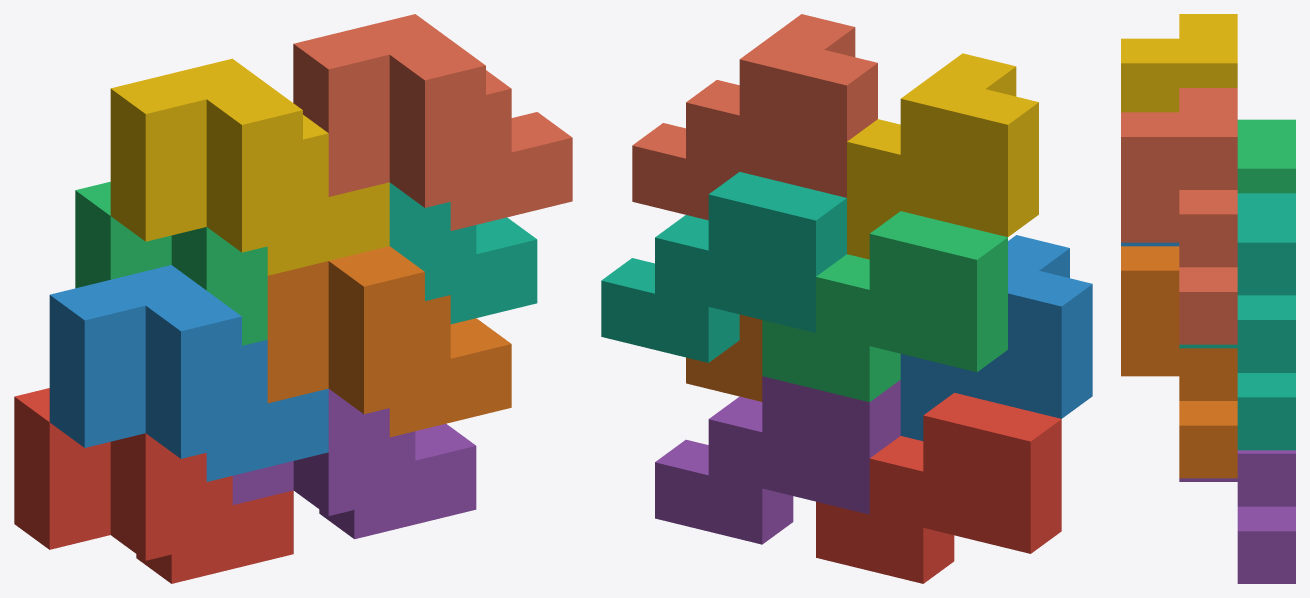
The model's file is tiling.obj.
3 renders of one model, left to right at view 1: azimuth 30°, elevation 25°; view 2: azimuth 150°, elevation 25°; view 3: azimuth 270°, elevation 25°, orthographic. The views are drawn at different scales.
Visible parts, largest first — view 1: copy_1_domain_4, copy_1_domain_2, copy_1_domain_8, copy_1_domain_6, copy_1_domain_1, copy_1_domain_5, copy_1_domain_7, copy_1_domain_3; view 2: copy_1_domain_1, copy_1_domain_3, copy_1_domain_7, copy_1_domain_8, copy_1_domain_4, copy_1_domain_5, copy_1_domain_2, copy_1_domain_6; view 3: copy_1_domain_8, copy_1_domain_7, copy_1_domain_6, copy_1_domain_4, copy_1_domain_5, copy_1_domain_3, copy_1_domain_2.
Part boxes in pixels (x1,y1,x2,y2): copy_1_domain_4: [110, 58, 389, 275]; copy_1_domain_2: [49, 265, 328, 481]; copy_1_domain_8: [293, 14, 572, 230]; copy_1_domain_6: [267, 246, 511, 437]; copy_1_domain_1: [14, 388, 293, 583]; copy_1_domain_5: [232, 389, 476, 539]; copy_1_domain_7: [389, 182, 537, 324]; copy_1_domain_3: [75, 181, 267, 345]; copy_1_domain_1: [816, 393, 1061, 583]; copy_1_domain_3: [762, 211, 1007, 402]; copy_1_domain_7: [601, 172, 846, 362]; copy_1_domain_8: [632, 14, 877, 220]; copy_1_domain_4: [847, 53, 1038, 259]; copy_1_domain_5: [655, 376, 900, 544]; copy_1_domain_2: [900, 235, 1092, 440]; copy_1_domain_6: [686, 314, 762, 401]; copy_1_domain_8: [1121, 88, 1237, 344]; copy_1_domain_7: [1179, 193, 1295, 450]; copy_1_domain_6: [1121, 246, 1237, 478]; copy_1_domain_4: [1121, 14, 1237, 112]; copy_1_domain_5: [1179, 450, 1295, 583]; copy_1_domain_3: [1237, 119, 1295, 193]; copy_1_domain_2: [1121, 242, 1179, 246].
Bounding box in the file's own units: 8 × 8 × 3.
